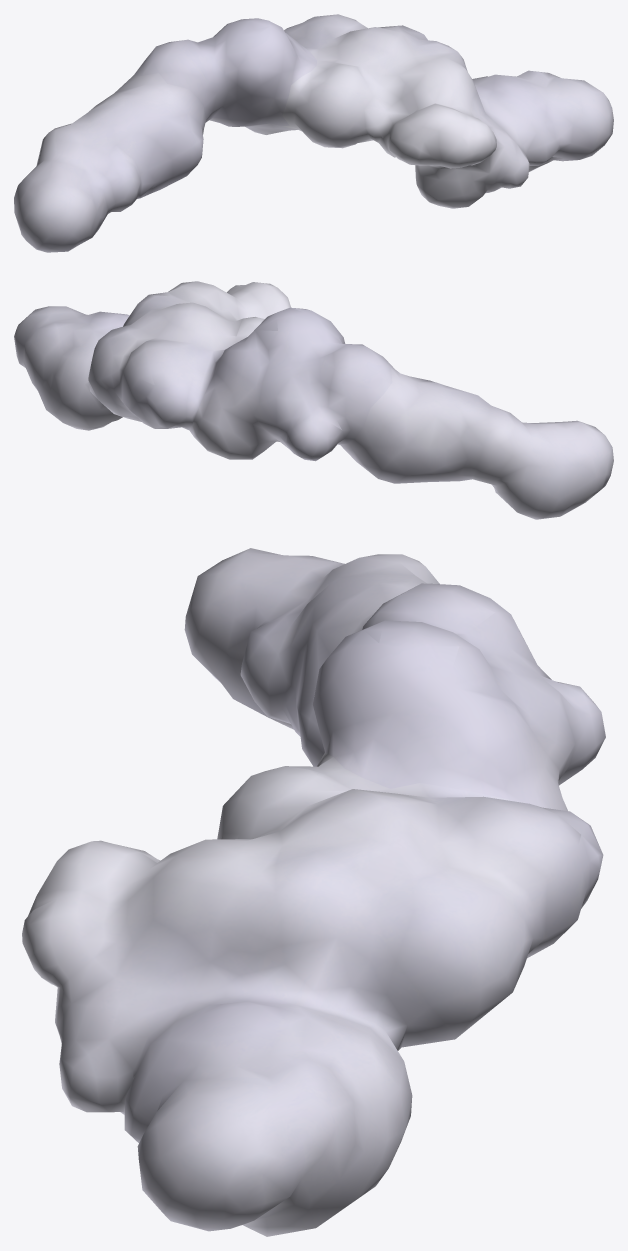
Rendered from OP_KD_Cloud_13a.FBX.
The picture shows the model from 3 angles, top to bottom: view 1: azimuth 30°, elevation 25°; view 2: azimuth 150°, elevation 25°; view 3: azimuth 270°, elevation 25°; orthographic projection. The views are drawn at different scales.
Visible parts, largest first — view 1: OP_KD_Cloud_13a; view 2: OP_KD_Cloud_13a; view 3: OP_KD_Cloud_13a.
Part boxes in pixels (box(x1,y1,x2,y2)): OP_KD_Cloud_13a: box(14, 14, 613, 252); OP_KD_Cloud_13a: box(14, 281, 613, 519); OP_KD_Cloud_13a: box(22, 548, 605, 1236).
Size of the model in its own units: 12240 by 3711 by 5374.
